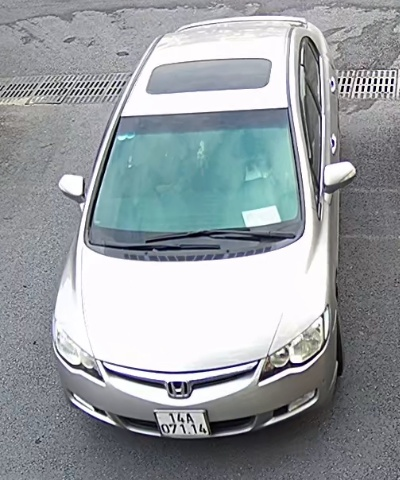vehicle plate: (154, 404, 216, 443)
